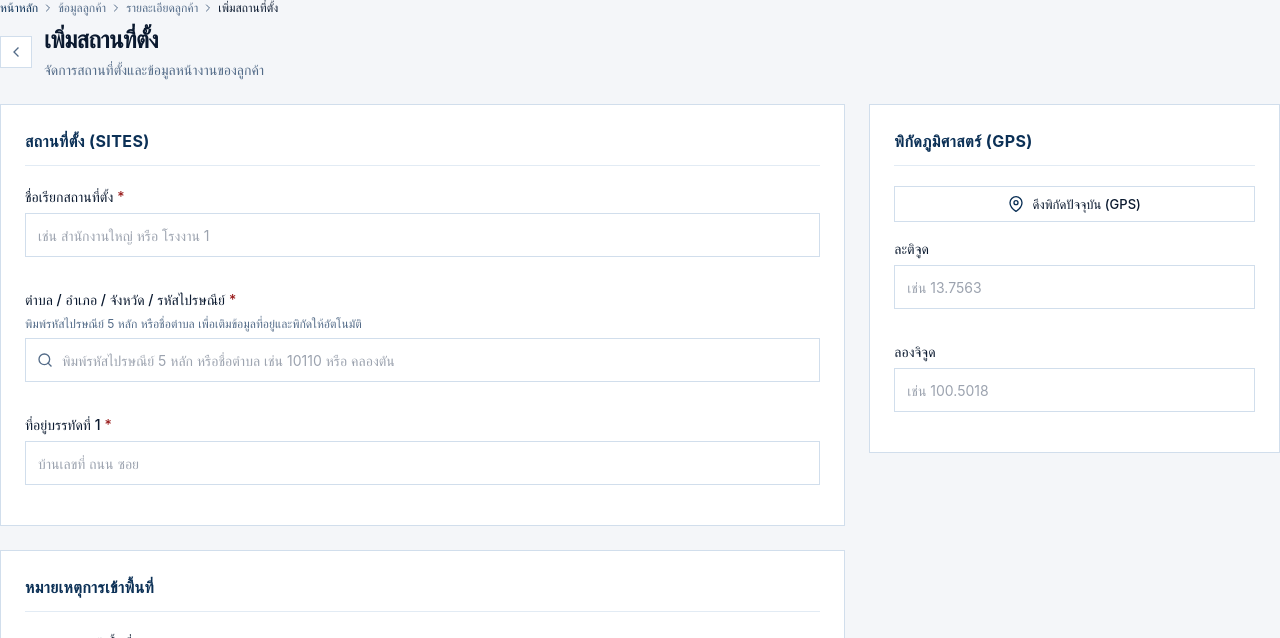
Test case: SiteEditor › auto-fills address and coordinates fields when an address is selected from smart search and allows clearing
The image size is (1280, 638).
Replace the text in the dropdown with "พระนคร" at (423, 360), box x1=25 y1=338 x2=820 y2=382
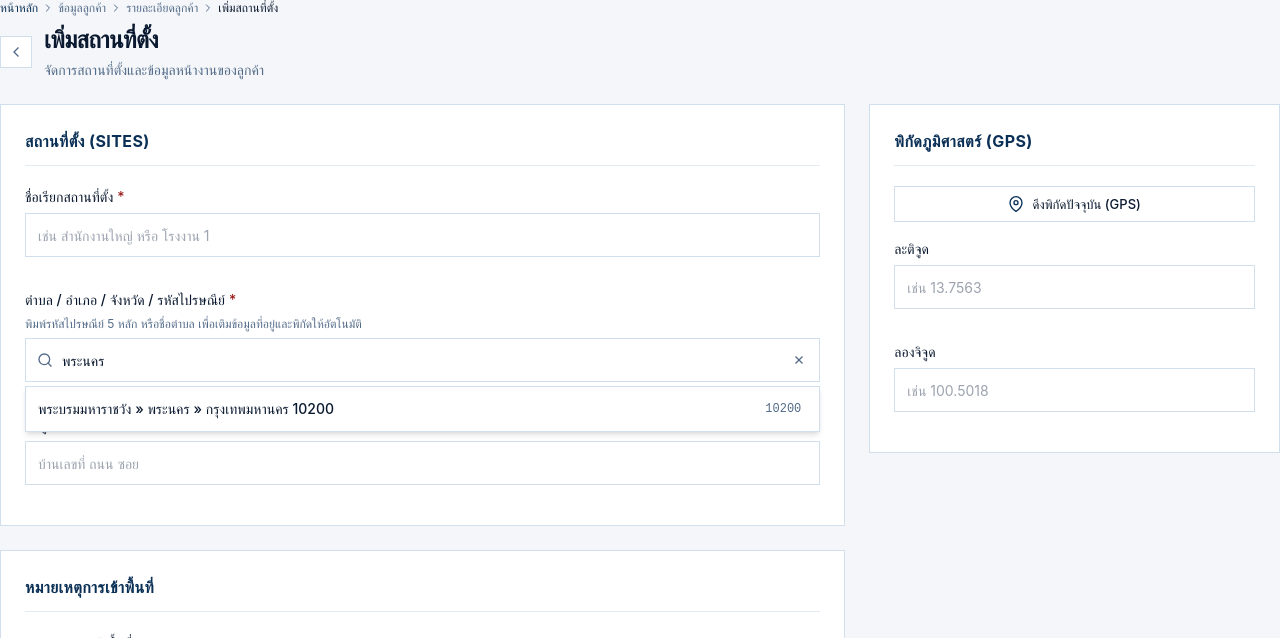
Click the option "พระบรมมหาราชวัง » พระนคร » กรุงเทพมหานคร 10200 10200" at (186, 408), box x1=38 y1=400 x2=801 y2=417
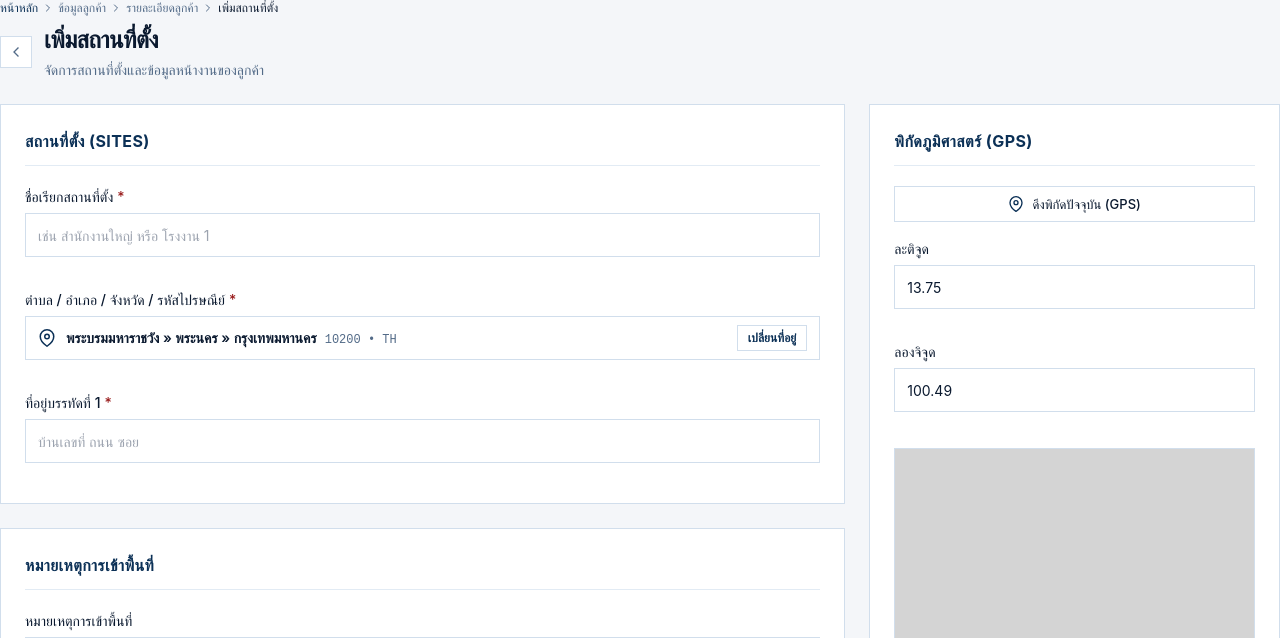
Expected: the text "พระบรมมหาราชวัง » พระนคร » กรุงเทพมหานคร" is shown, x1=66 y1=328 x2=317 y2=348
Expected: the text "10200 • TH" is shown, x1=325 y1=332 x2=397 y2=348
Expected: the number field labelled "ละติจูด" holds "13.75", x1=894 y1=265 x2=1255 y2=309
# Clicking "เปลี่ยนที่อยู่" clears the selection and re-renders the smart search
Click the button "เปลี่ยนที่อยู่" at (772, 338), box x1=737 y1=325 x2=807 y2=351
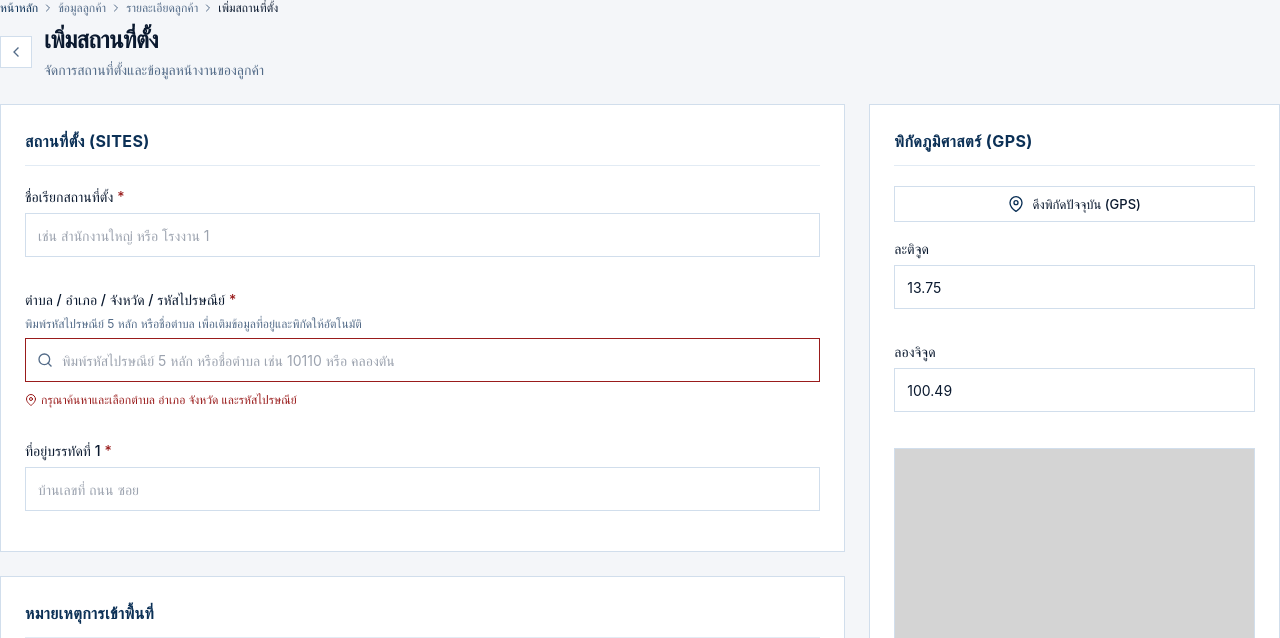
Expected: the text "พระบรมมหาราชวัง » พระนคร » กรุงเทพมหานคร" is gone
Expected: the dropdown is shown, x1=25 y1=338 x2=820 y2=382
